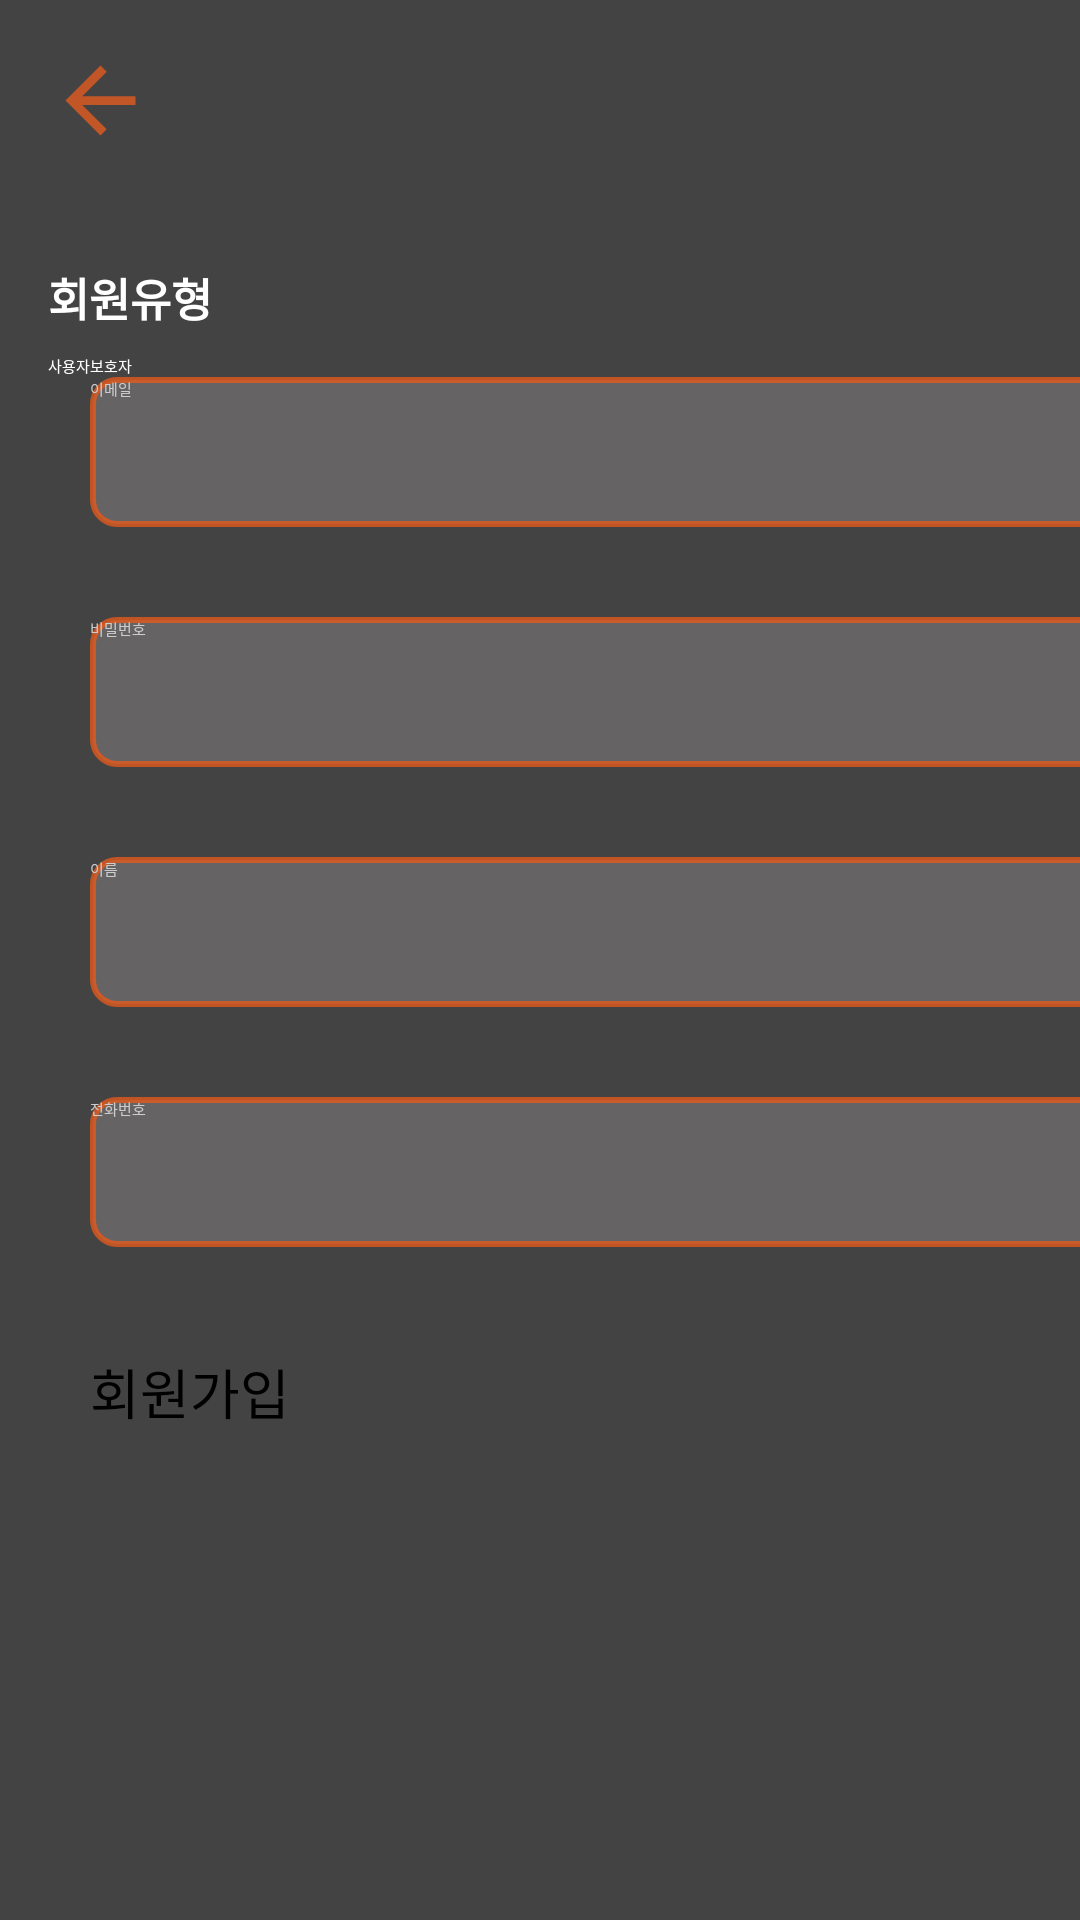

Icon click points for this 1080px x 1920px phone screenshot, format (x=x, y=y):
뒤로가기 버튼입니다: (x=100, y=100)
